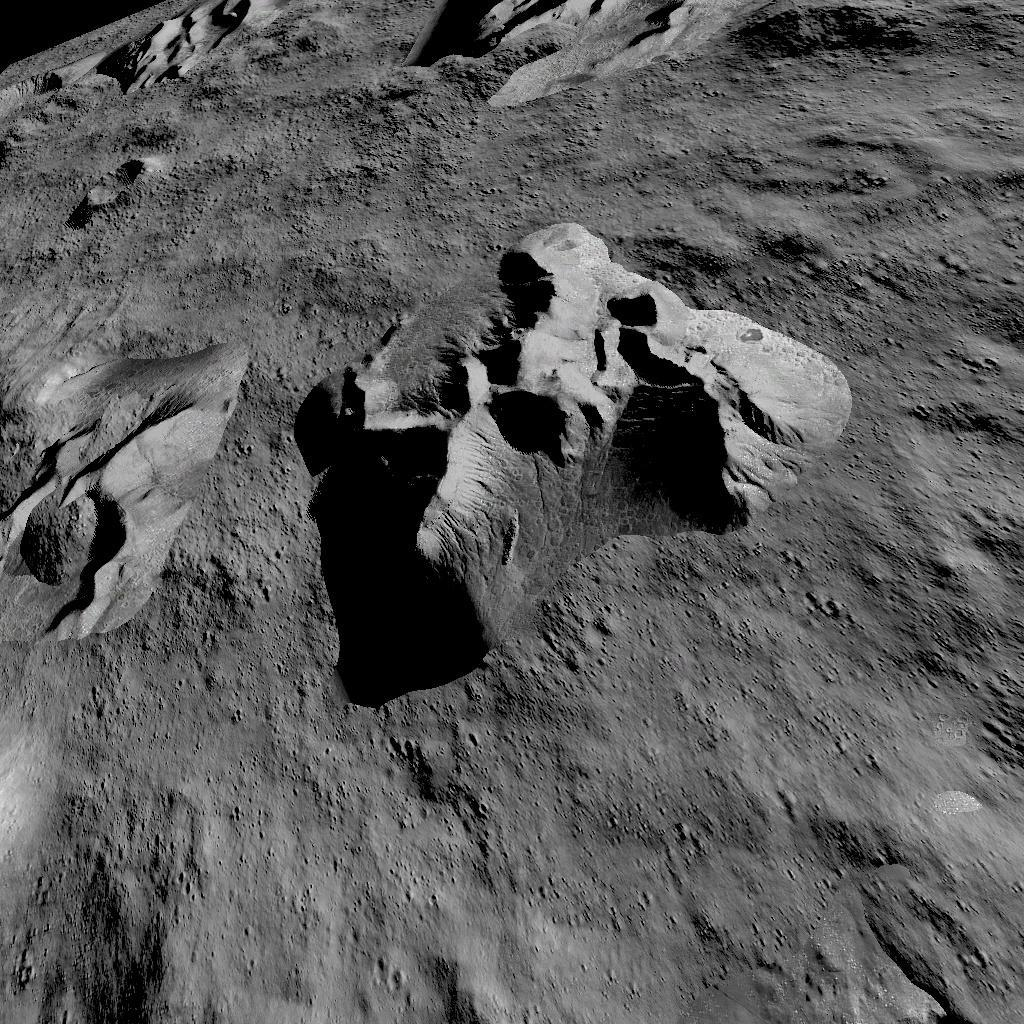Boulders: (288, 216, 862, 708), (396, 0, 938, 111), (95, 0, 291, 103)
Crater: (0, 360, 227, 666), (67, 154, 182, 236), (2, 68, 75, 148)
Plan surface: (9, 731, 1024, 1024), (877, 147, 1024, 703), (0, 248, 266, 344), (196, 113, 380, 208)
